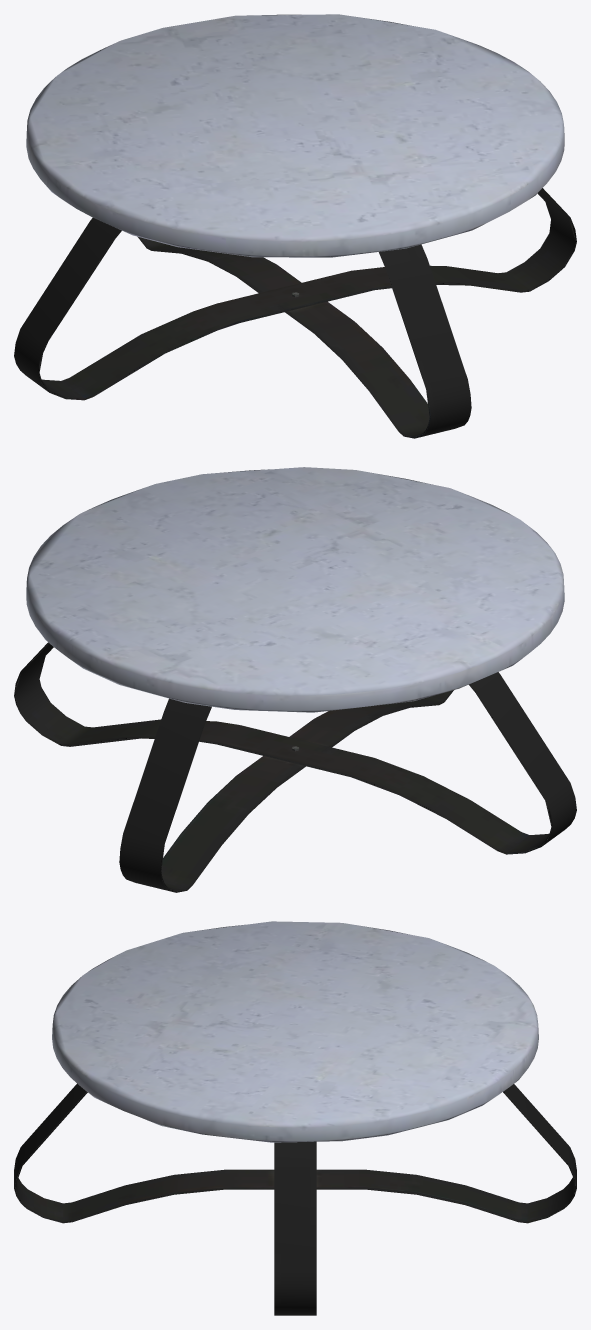
File: coffee_table_round_01.glb
3 renders of one model, top to bottom at view 1: azimuth 30°, elevation 25°; view 2: azimuth 150°, elevation 25°; view 3: azimuth 270°, elevation 25°, orthographic. The views are drawn at different scales.
Visible parts, largest first — view 1: coffee_table_round_01; view 2: coffee_table_round_01; view 3: coffee_table_round_01.
Part boxes in pixels (left/top/right/bottom): coffee_table_round_01: left=14, top=14, right=576, bottom=438; coffee_table_round_01: left=14, top=467, right=576, bottom=892; coffee_table_round_01: left=14, top=921, right=576, bottom=1315.
Bounding box in the file's own units: 1.3 × 0.4899 × 1.3.
1 material, 1 textured.
